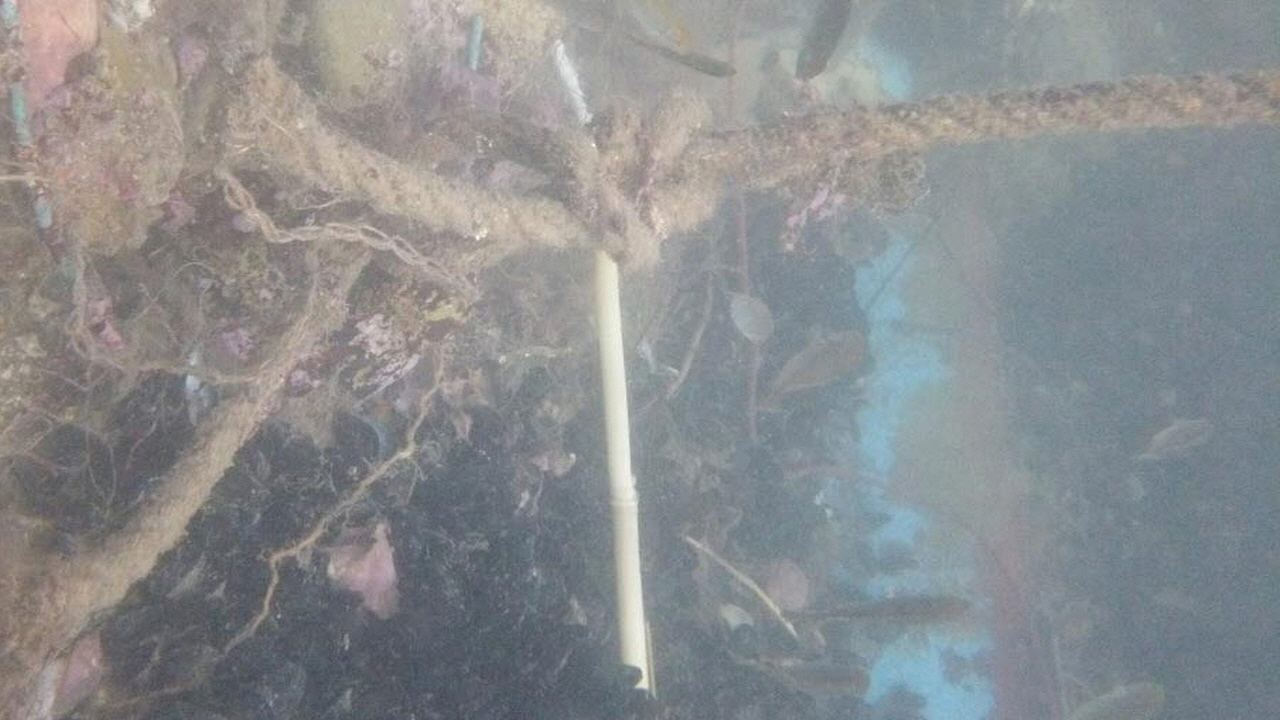rope: (254, 56, 1277, 264), (53, 273, 345, 629)
